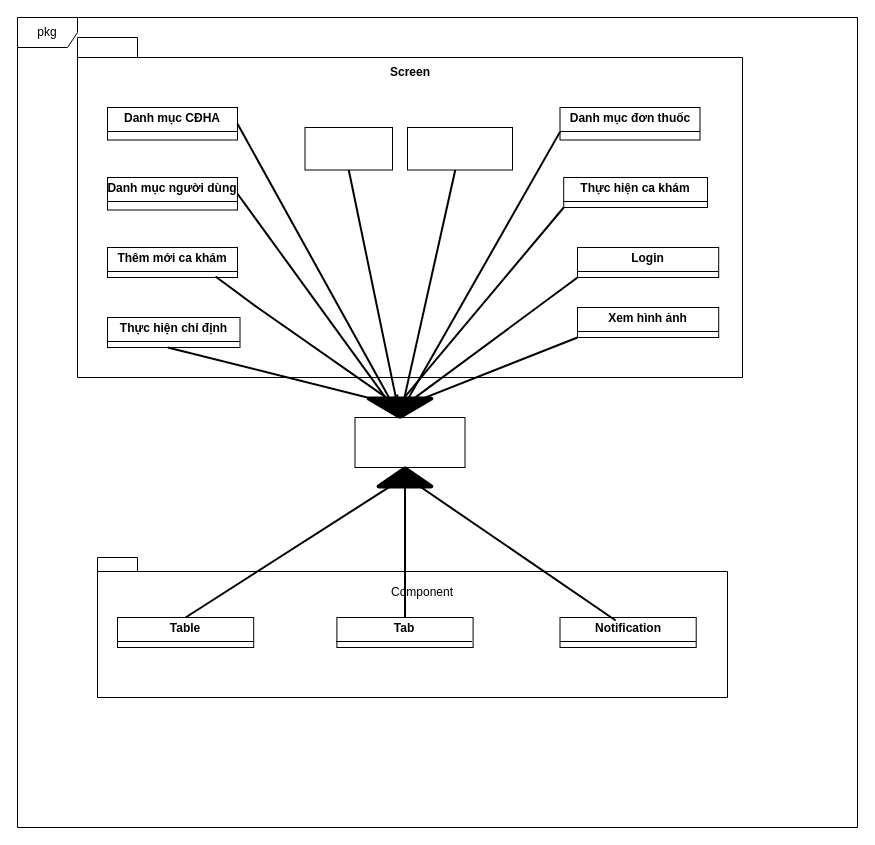
This 875x845 diagram has some shape labels left out. Each missing label, with the centre of its shape:
Danh sách chỉ định: (x=459, y=148)
Thêm mới bệnh nhân: (x=348, y=148)
View: (x=409, y=442)
